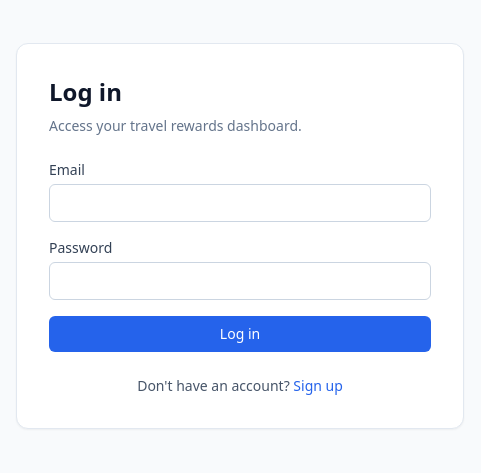
it: LoginPage validation › requires email and password
Click the button "Log in": x=240, y=334 [49,316,431,352]
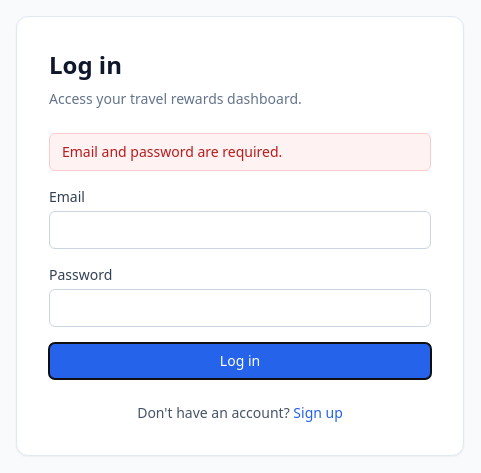
Now the text "Email and password are required." is shown, box [49,133,431,171]
